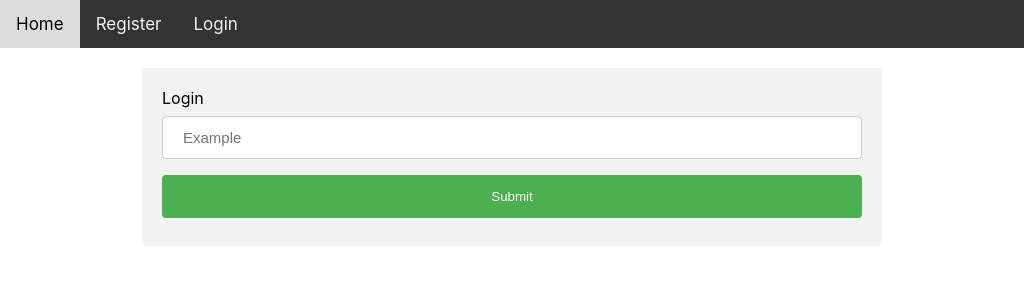
Test: E2E tests with cypress › Empty login
The image size is (1024, 286).
Click the field with id "login" at (512, 138), box x1=162 y1=116 x2=862 y2=159
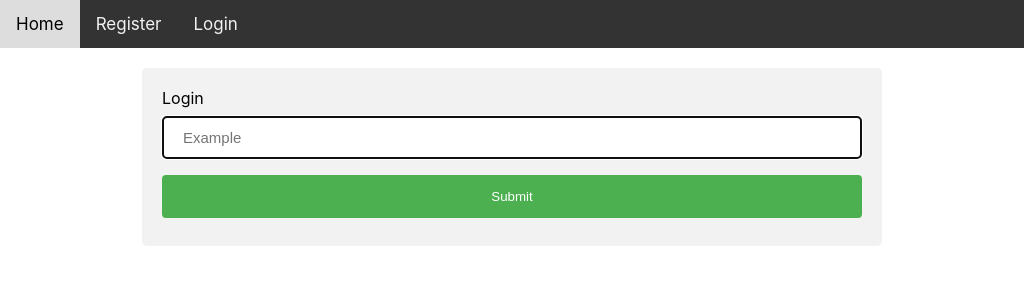
Click the button with id "login-submit" at (512, 197), box x1=162 y1=175 x2=862 y2=218
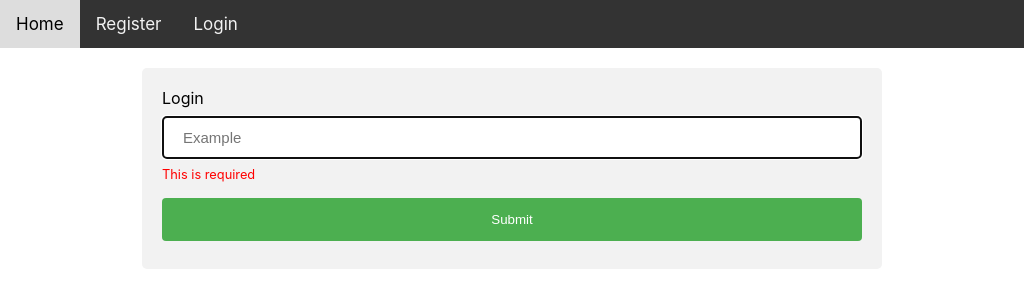
Check: the element with class "error" is not empty
Check: the message with class "error" reads "This is required", box x1=162 y1=167 x2=255 y2=182
